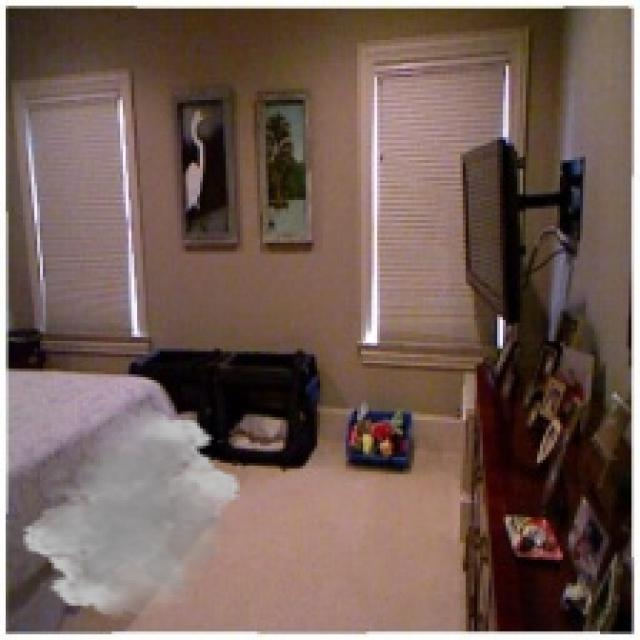smoke: (20, 406, 243, 620)
